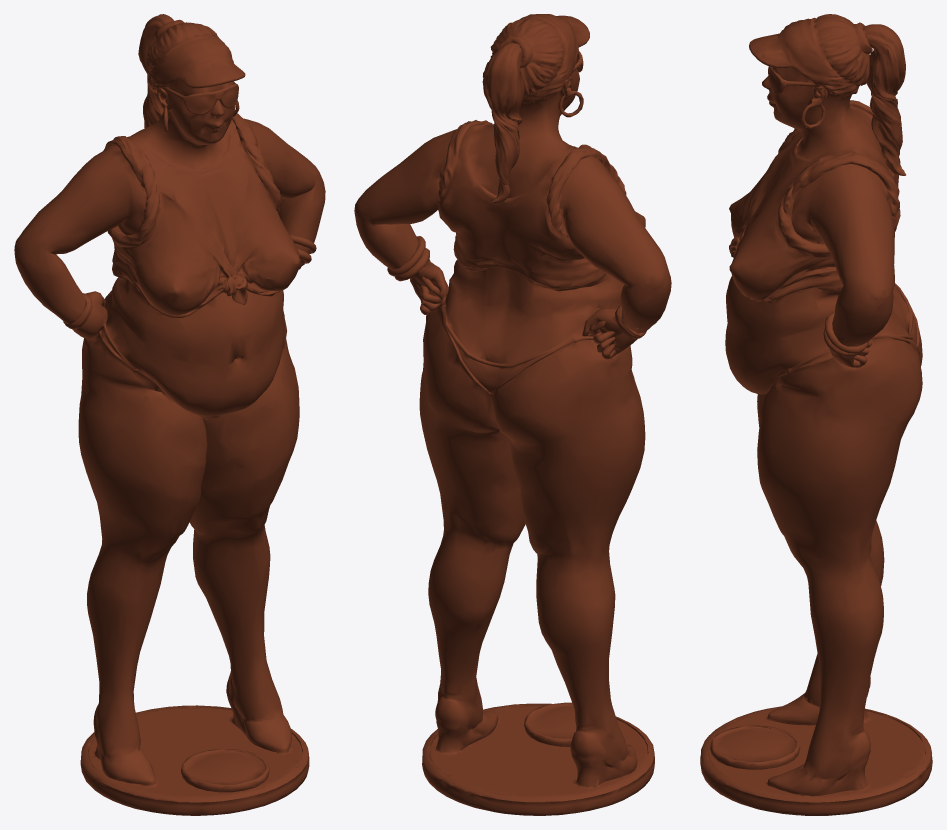
File: K_Chubby girl_Just do It_3D print.fbx
3 views of the same model, side by side, from view 1: azimuth 30°, elevation 25°; view 2: azimuth 150°, elevation 25°; view 3: azimuth 270°, elevation 25° (orthographic).
Parts seen in each view (by area): view 1: K_Just Do It_3D print; view 2: K_Just Do It_3D print; view 3: K_Just Do It_3D print.
Part boxes in pixels (<box>): K_Just Do It_3D print: <box>14,14,325,815</box>; K_Just Do It_3D print: <box>354,14,671,815</box>; K_Just Do It_3D print: <box>700,14,932,815</box>.
Bounding box in the file's own units: 3.84 × 8.92 × 2.5.
